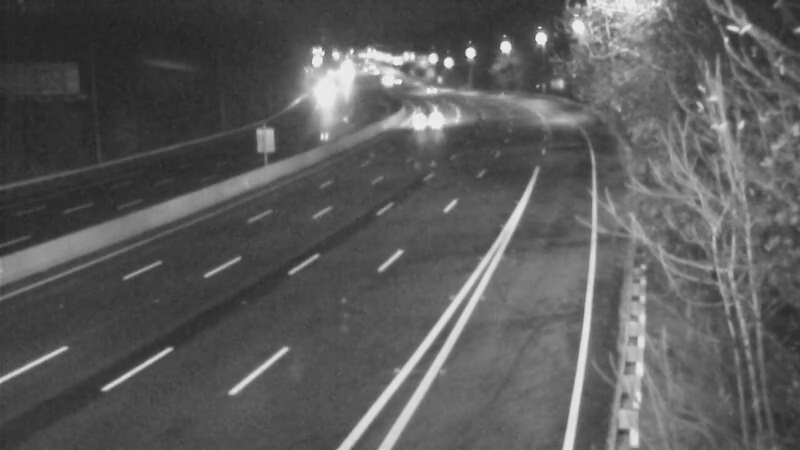vehicle: (360, 55, 410, 105), (406, 64, 456, 114), (395, 99, 445, 149)
